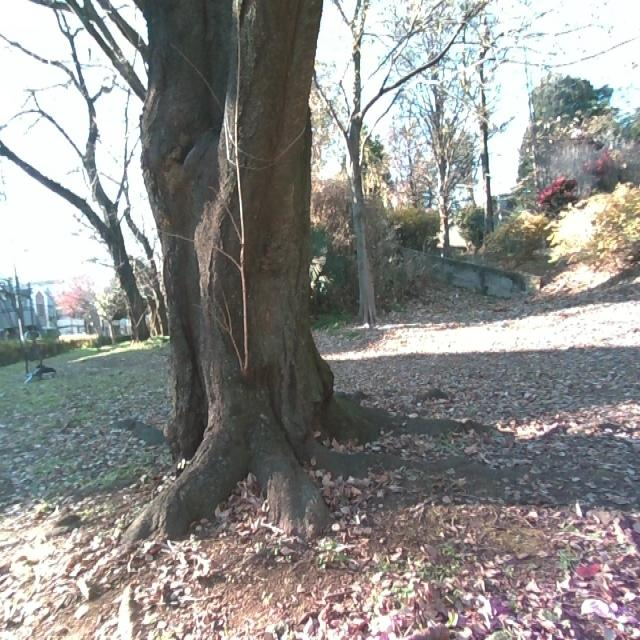artifact: (389, 242, 533, 308), (0, 267, 102, 344), (22, 276, 59, 386)
bush: (549, 184, 640, 281), (476, 207, 554, 277)
tree: (113, 0, 438, 544), (0, 0, 158, 336), (304, 0, 435, 323)
